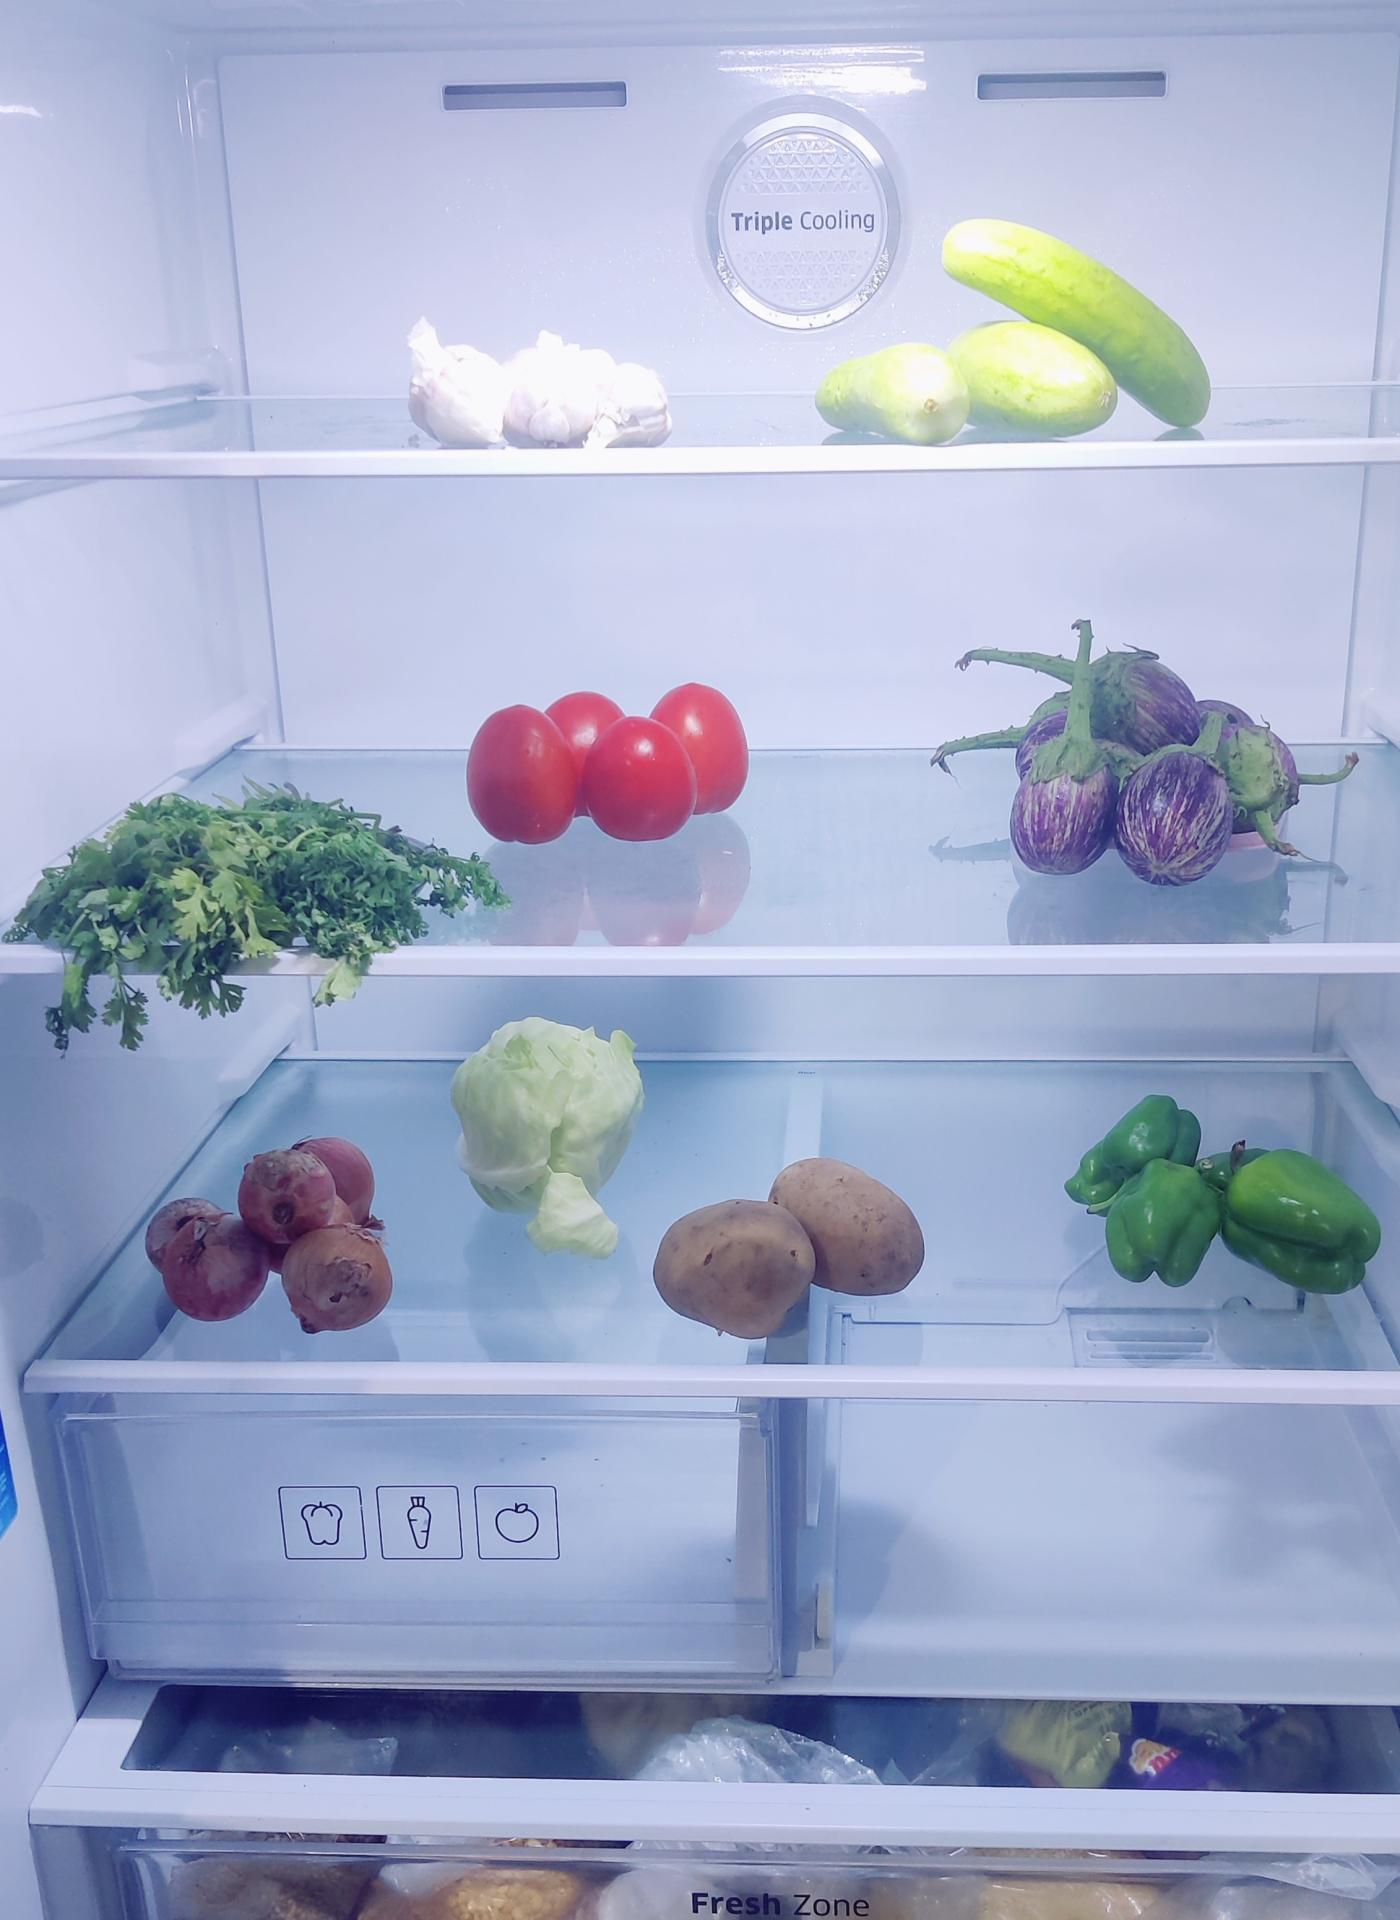brinjal: (1015, 641, 1299, 877)
cabbage: (452, 1012, 638, 1212)
capsicum: (1073, 1099, 1391, 1301)
coriander: (22, 789, 496, 982)
cucumber: (948, 225, 1221, 441)
garlic: (397, 310, 671, 452)
onion: (152, 1137, 400, 1333)
potato: (650, 1152, 927, 1336)
tomato: (471, 677, 757, 838)
